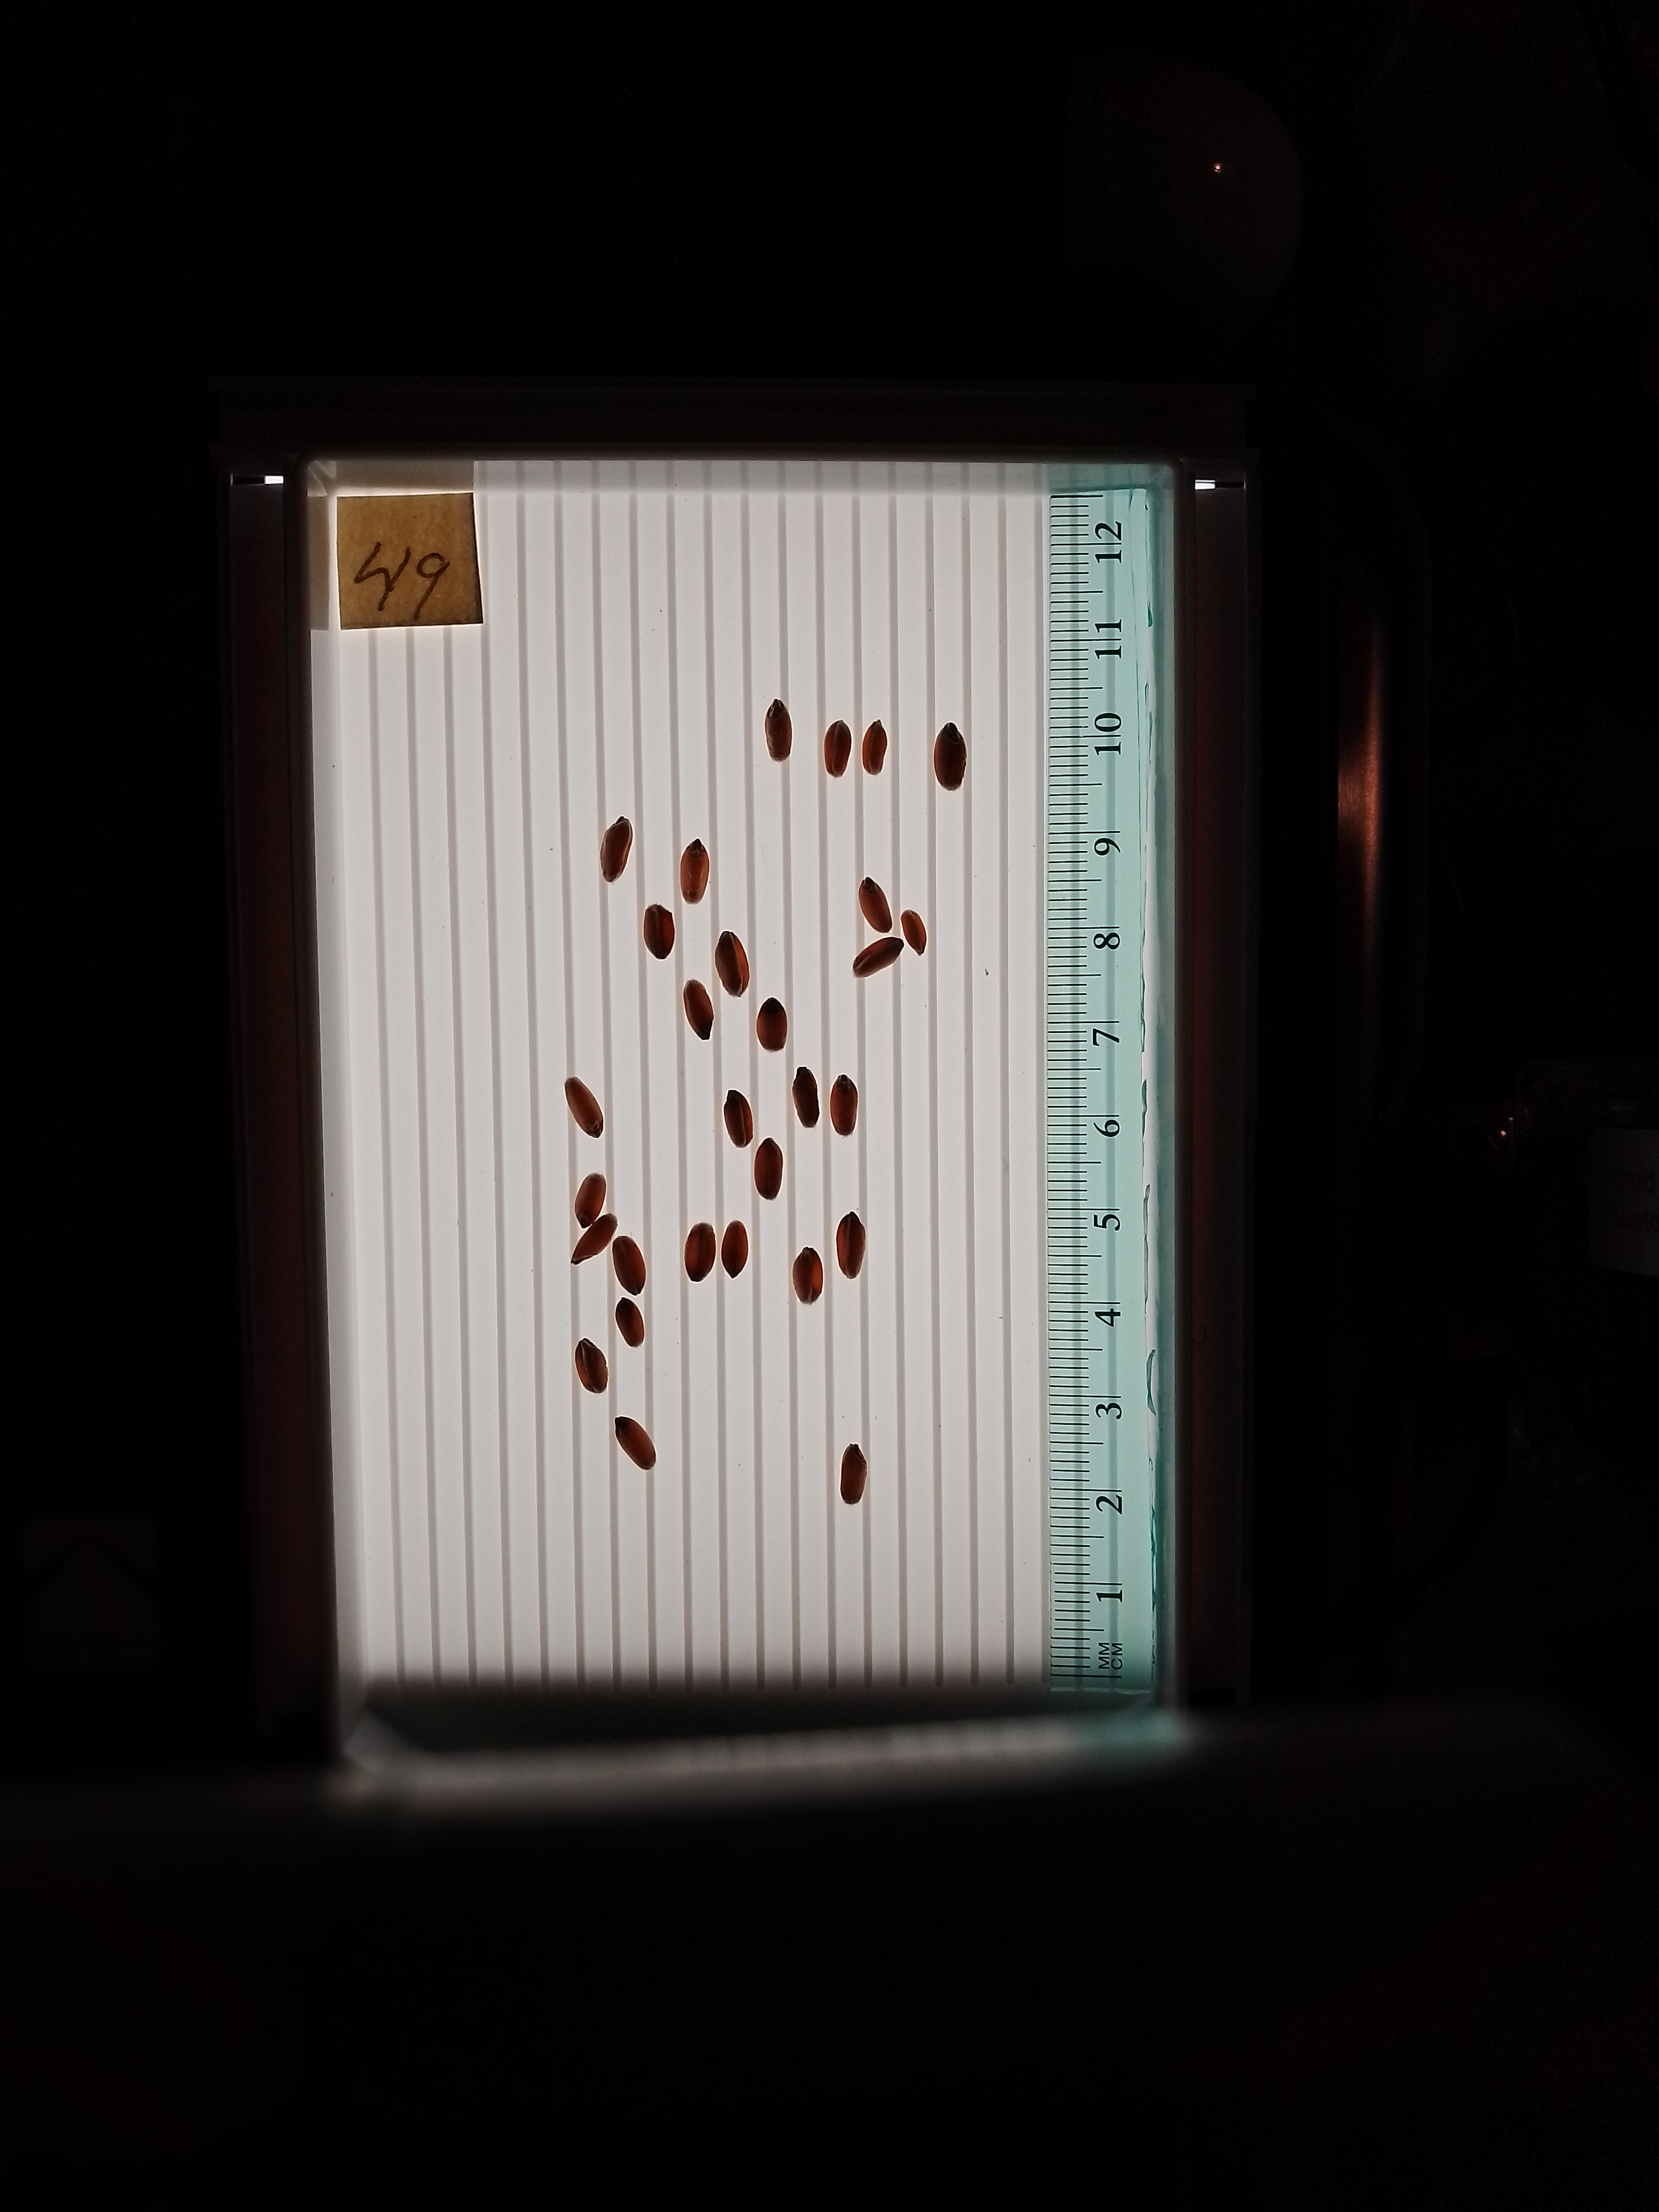seed mask: (932, 725, 967, 792), (565, 1076, 603, 1137), (714, 934, 749, 996), (854, 935, 903, 979), (615, 1418, 655, 1470), (599, 819, 633, 881), (572, 1216, 613, 1263), (836, 1214, 866, 1278), (613, 1237, 647, 1294), (680, 841, 709, 902), (575, 1339, 608, 1393), (859, 880, 892, 934), (685, 1224, 716, 1280), (643, 904, 674, 960), (683, 981, 713, 1038), (793, 1249, 824, 1303), (830, 1076, 857, 1136), (575, 1174, 606, 1226), (755, 1141, 782, 1198), (756, 1001, 788, 1052), (721, 1221, 749, 1277), (725, 1090, 753, 1146), (824, 721, 852, 777), (842, 1446, 868, 1505), (765, 702, 791, 759), (793, 1071, 819, 1127), (617, 1299, 645, 1346), (863, 723, 887, 773), (901, 911, 927, 953)
